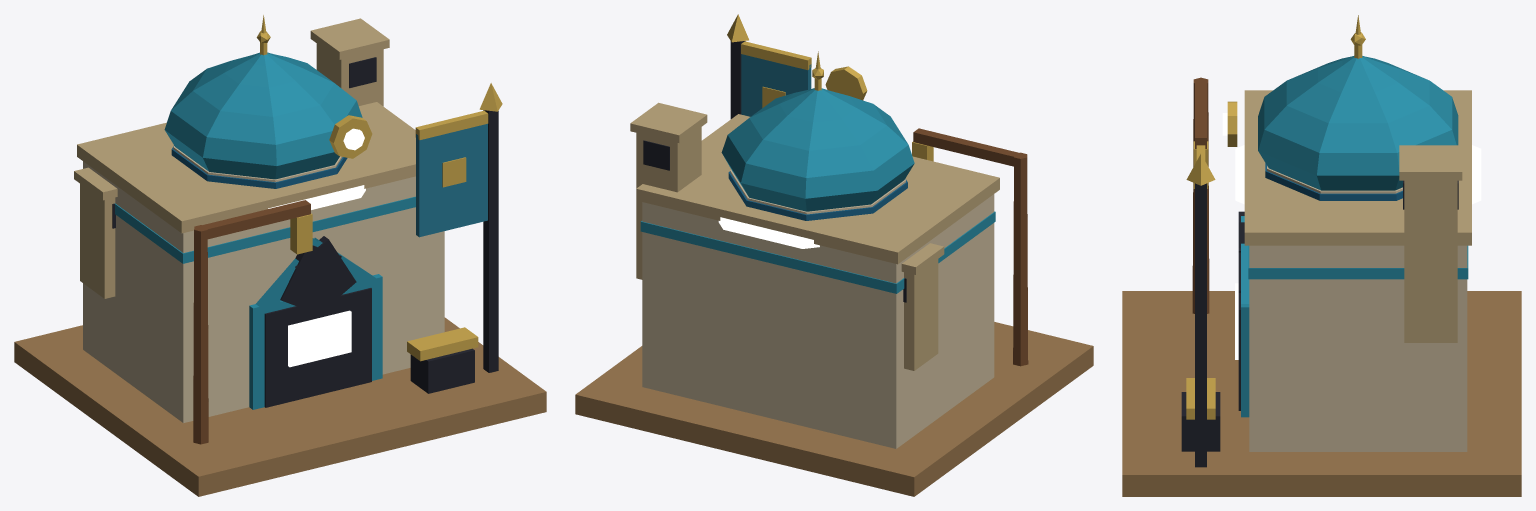
File: workshop_t3.glb
3 renders of one model, left to right at view 1: azimuth 30°, elevation 25°; view 2: azimuth 150°, elevation 25°; view 3: azimuth 270°, elevation 25°, orthographic. The views are drawn at different scales.
Visible parts, largest first — view 1: body, glow; view 2: body, glow; view 3: body, glow.
Part boxes in pixels (bbox=[...]): body: bbox=[14, 15, 546, 496]; glow: bbox=[268, 128, 365, 367]; body: bbox=[575, 14, 1093, 496]; glow: bbox=[718, 217, 819, 248]; body: bbox=[1122, 15, 1521, 496]; glow: bbox=[1222, 113, 1481, 359].
Size of the model in its own units: 1.8 by 1.78 by 1.65.
